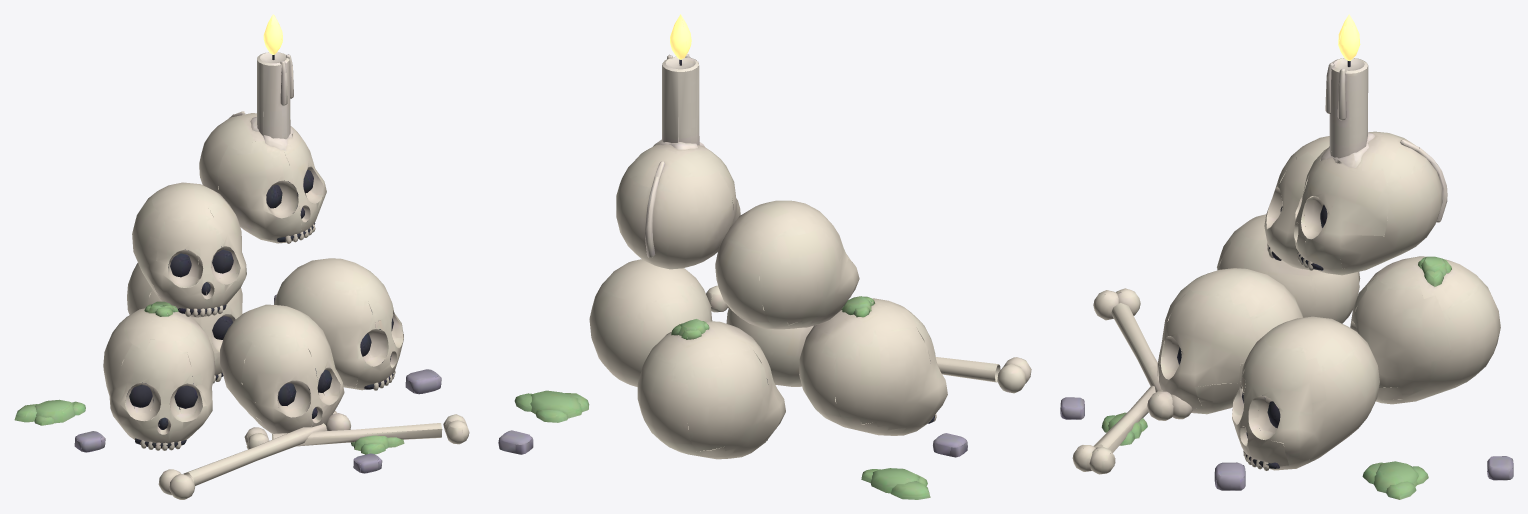
The model's file is calaveras.glb.
3 renders of one model, left to right at view 1: azimuth 30°, elevation 25°; view 2: azimuth 150°, elevation 25°; view 3: azimuth 270°, elevation 25°, orthographic. The views are drawn at different scales.
Visible parts, largest first — view 1: skull-pile_body; view 2: skull-pile_body; view 3: skull-pile_body.
Boxes of the visible parts, x1,y1,x2,y2 form: skull-pile_body: (14, 14, 469, 499); skull-pile_body: (498, 14, 1031, 499); skull-pile_body: (1060, 14, 1513, 499).
Bounding box in the file's own units: 0.6509 × 0.6165 × 0.6043.
2 materials, 1 textured.
